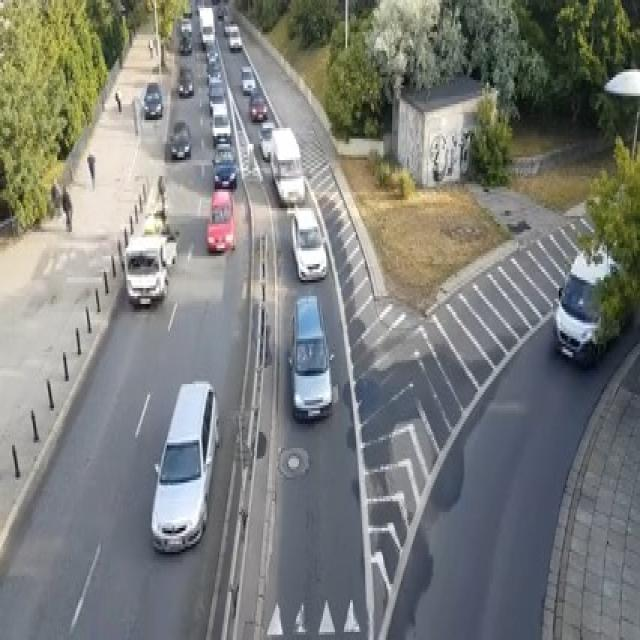car: (150, 379, 220, 552), (552, 245, 632, 368), (287, 294, 332, 422), (123, 232, 168, 307), (269, 126, 305, 206), (290, 205, 326, 280), (143, 210, 177, 266), (206, 189, 234, 251), (212, 142, 237, 190), (210, 104, 232, 147), (168, 120, 191, 157), (257, 120, 276, 160), (143, 83, 162, 117), (208, 77, 225, 115), (250, 91, 268, 120), (177, 67, 194, 96), (240, 64, 256, 93), (206, 59, 222, 85), (228, 24, 242, 51), (179, 35, 192, 53), (180, 16, 192, 35)
